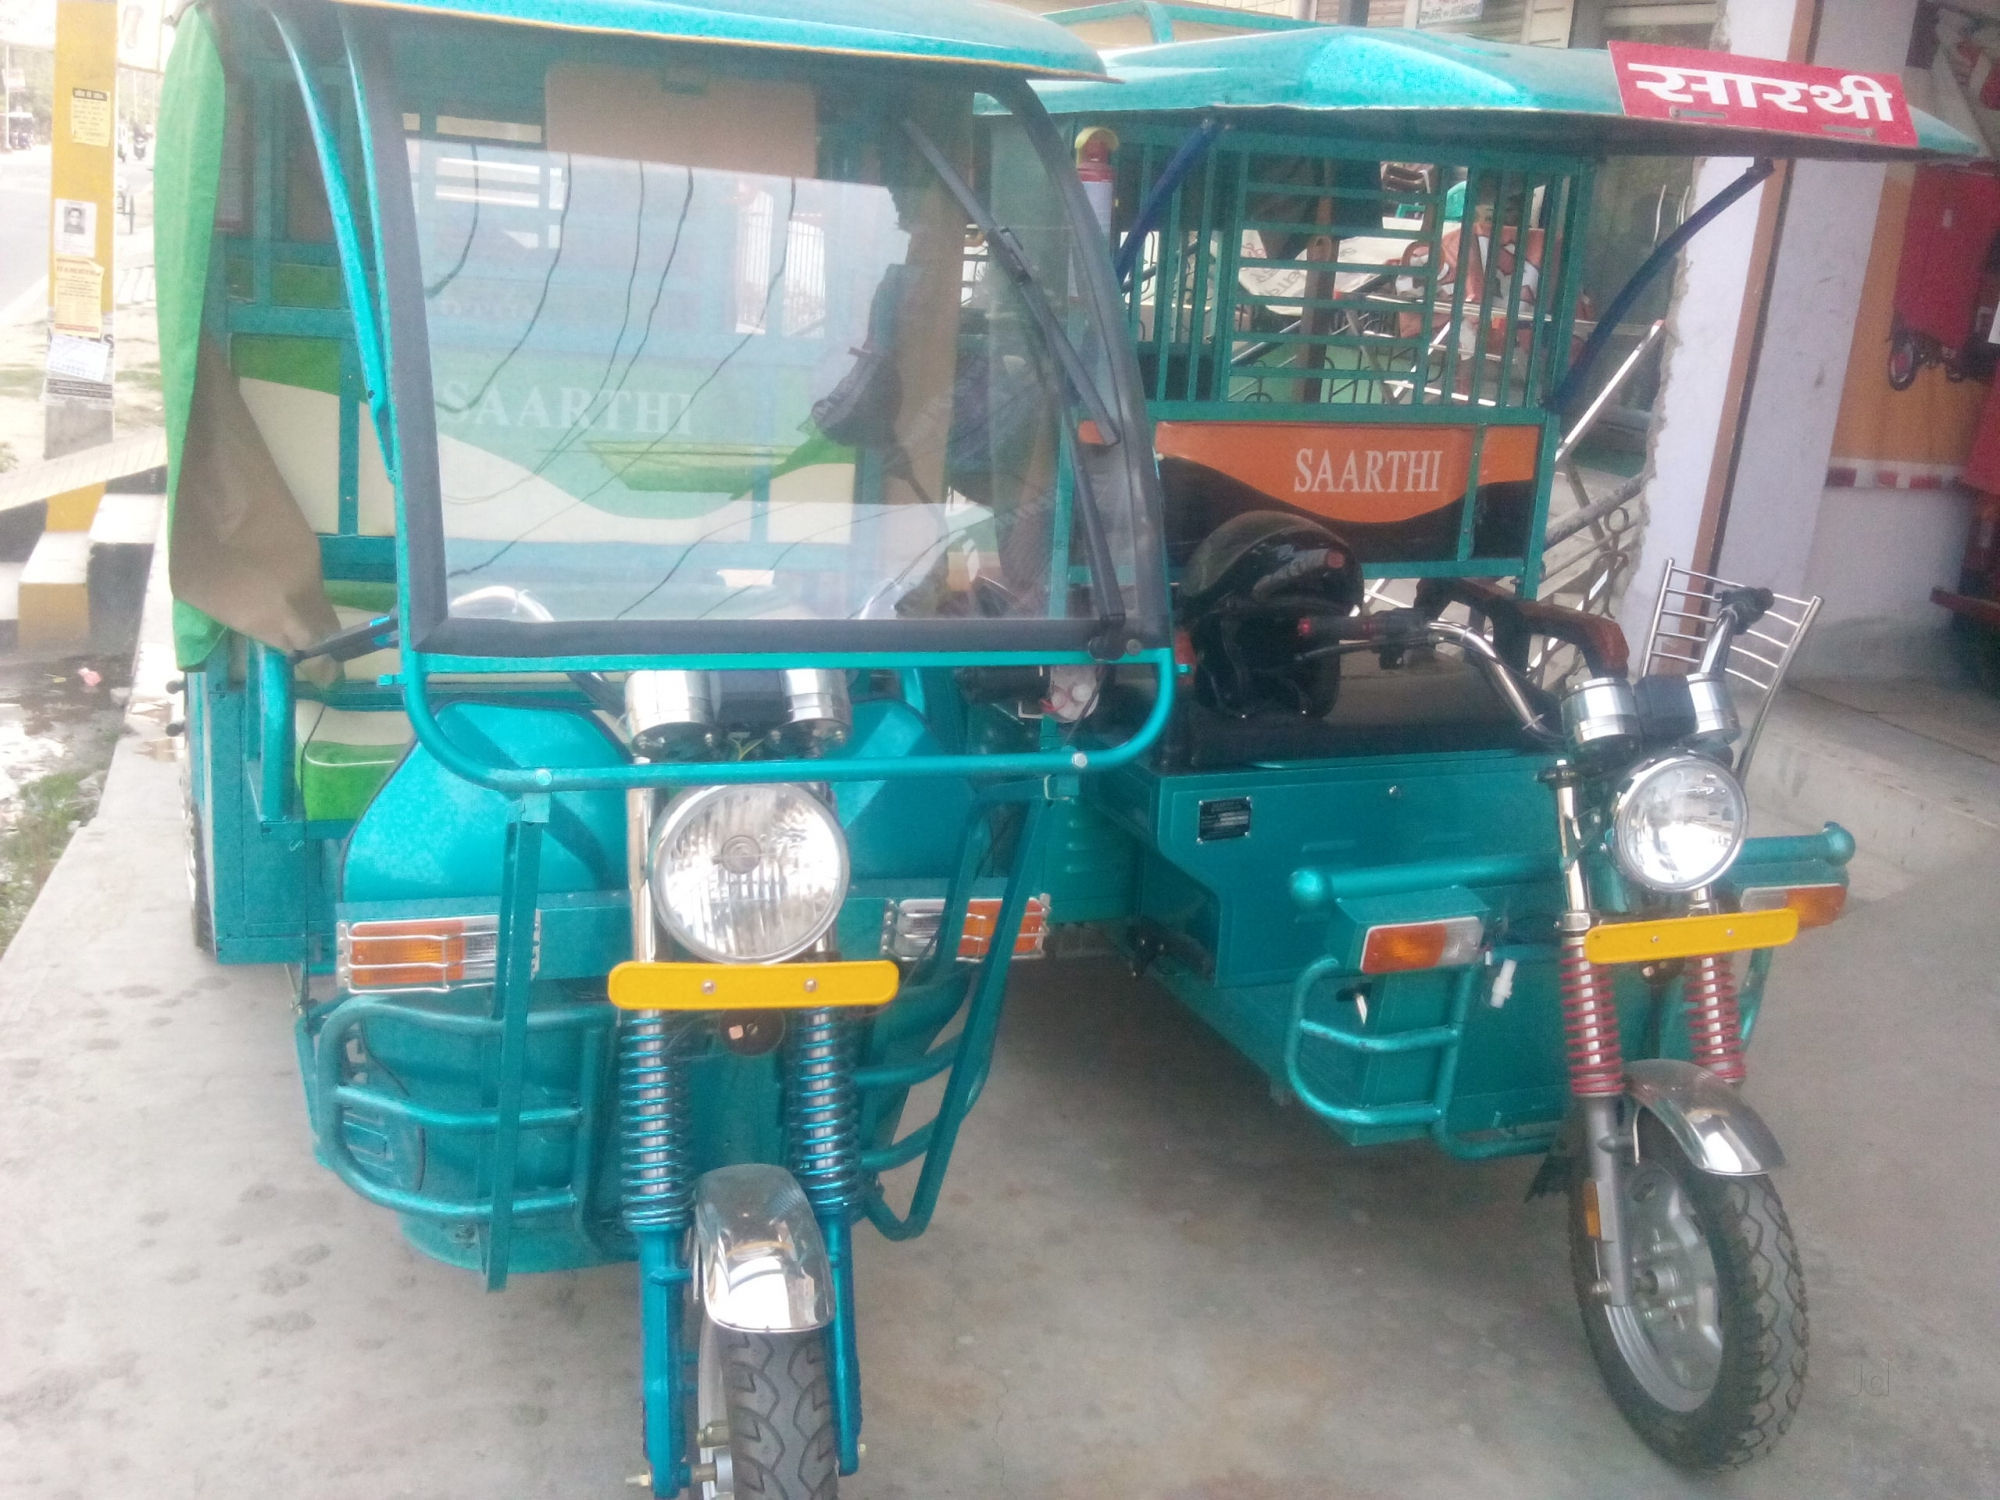auto rickshaw: (157, 2, 1172, 1500), (1143, 27, 1857, 1475)
